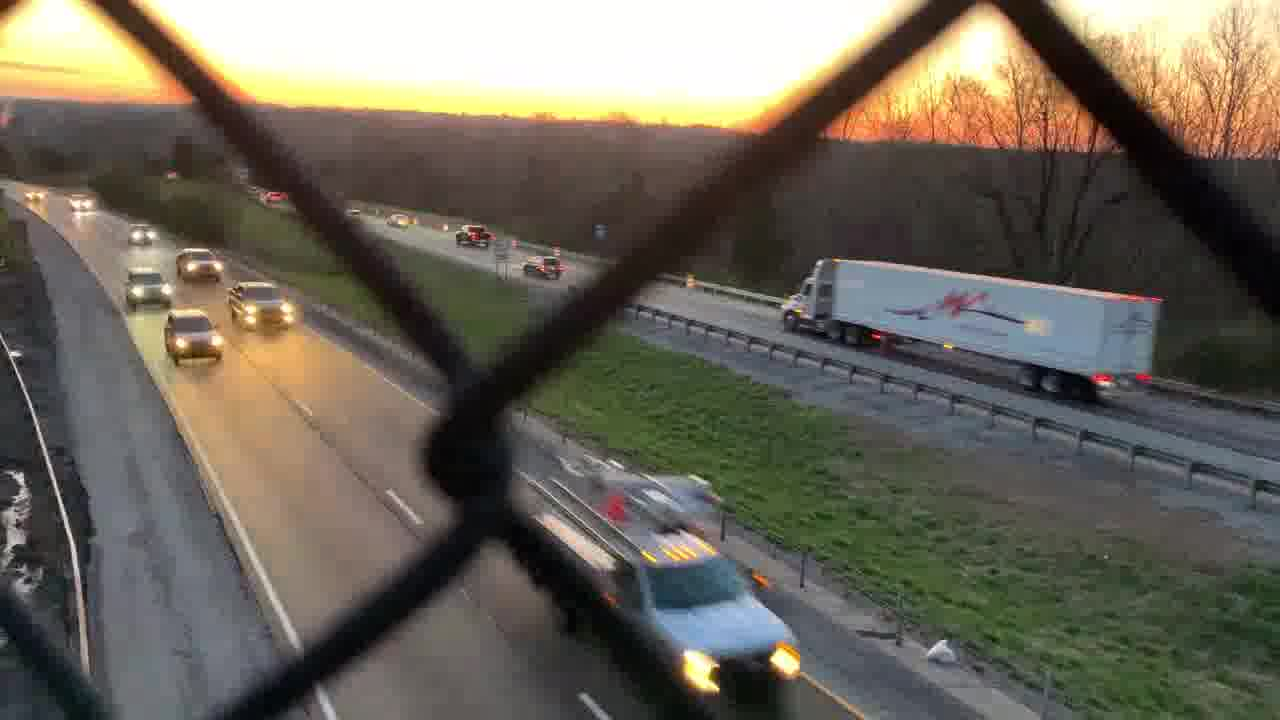heavyTruck: (780, 255, 1174, 403)
largeCar: (156, 311, 223, 367), (123, 266, 172, 306)
lightTruck: (532, 463, 807, 711), (225, 279, 302, 337), (174, 246, 227, 281), (454, 219, 494, 252)
vehicle: (62, 189, 97, 215), (128, 224, 162, 247), (382, 209, 410, 229), (260, 190, 286, 207), (19, 188, 50, 201), (342, 204, 362, 219)
